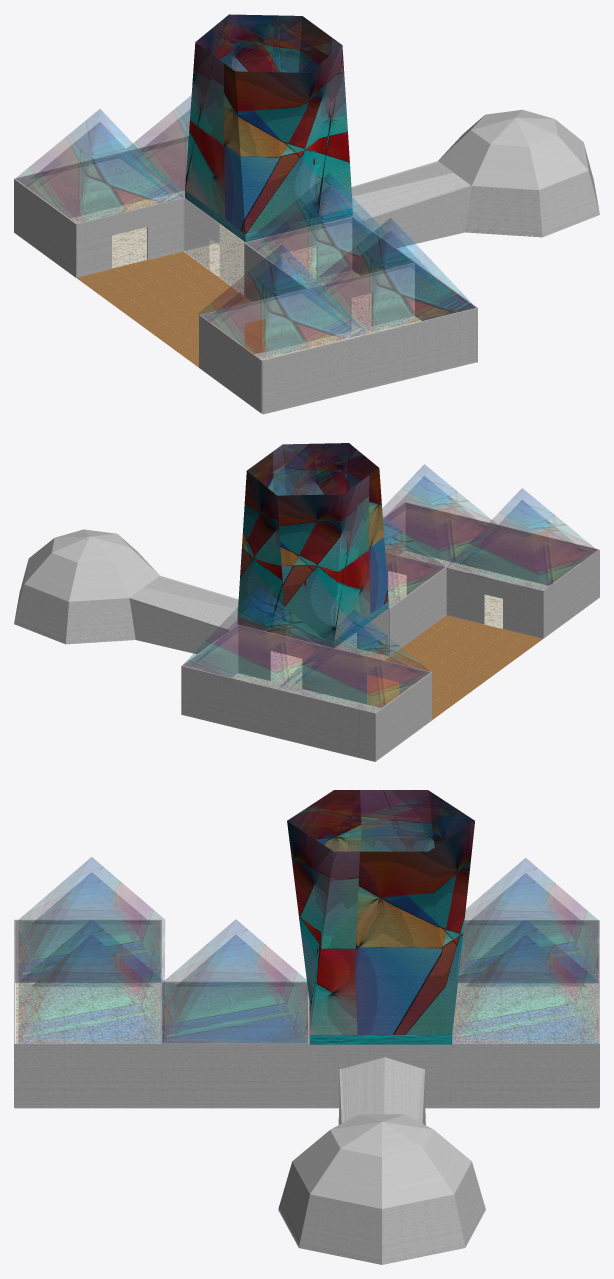
The model's file is Museum.fbx.
3 views of the same model, one above another, from view 1: azimuth 30°, elevation 25°; view 2: azimuth 150°, elevation 25°; view 3: azimuth 270°, elevation 25° (orthographic). The views are drawn at different scales.
Parts seen in each view (by area): view 1: cyclinderceiling, dome2, wall17, ceilingpyramid4, ceilingpyramid2, ceilingpyramid3, floor5, wall14, ceilingpyramid1, wall6, wall1, wall20 (+12 smaller); view 2: cyclinderceiling, dome2, wall6, wall17, ceilingpyramid4, ceilingpyramid2, ceilingpyramid, floor5, ceilingpyramid3, wall1, wall14, wall20 (+11 smaller); view 3: cyclinderceiling, dome2, ceilingpyramid3, ceilingpyramid1, ceilingpyramid, ceilingpyramid4, ceilingpyramid2, wall3, wall7, wall19, wall20, wall9 (+3 smaller).
Boxes of the visible parts, <box> form: cyclinderceiling: <box>185,14,352,242</box>; dome2: <box>351,109,599,247</box>; wall17: <box>262,308,476,414</box>; ceilingpyramid4: <box>198,244,366,359</box>; ceilingpyramid2: <box>15,109,183,223</box>; ceilingpyramid3: <box>310,218,474,332</box>; floor5: <box>76,251,264,367</box>; wall14: <box>201,263,414,351</box>; ceilingpyramid1: <box>245,173,386,284</box>; wall6: <box>15,136,188,218</box>; wall1: <box>76,197,219,277</box>; wall20: <box>199,314,262,413</box>; cyclinderceiling: <box>237,443,388,647</box>; dome2: <box>14,529,238,653</box>; wall6: <box>182,666,375,761</box>; wall17: <box>405,502,598,585</box>; ceilingpyramid4: <box>446,488,597,591</box>; ceilingpyramid2: <box>279,609,430,712</box>; ceilingpyramid: <box>183,586,329,688</box>; floor5: <box>368,615,542,719</box>; ceilingpyramid3: <box>382,464,496,567</box>; wall1: <box>238,625,431,719</box>; wall14: <box>385,552,542,638</box>; wall20: <box>542,549,599,638</box>; cyclinderceiling: <box>287,790,474,1044</box>; dome2: <box>278,1043,485,1264</box>; ceilingpyramid3: <box>18,919,164,1043</box>; ceilingpyramid1: <box>162,919,308,1043</box>; ceilingpyramid: <box>453,919,598,1043</box>; ceilingpyramid4: <box>18,857,164,981</box>; ceilingpyramid2: <box>458,858,598,982</box>; wall3: <box>450,1043,599,1108</box>; wall7: <box>161,1043,309,1108</box>; wall19: <box>14,1043,161,1108</box>; wall20: <box>14,919,161,982</box>; wall9: <box>161,981,307,1043</box>.
Size of the model in its own units: 253 by 108 by 223.
